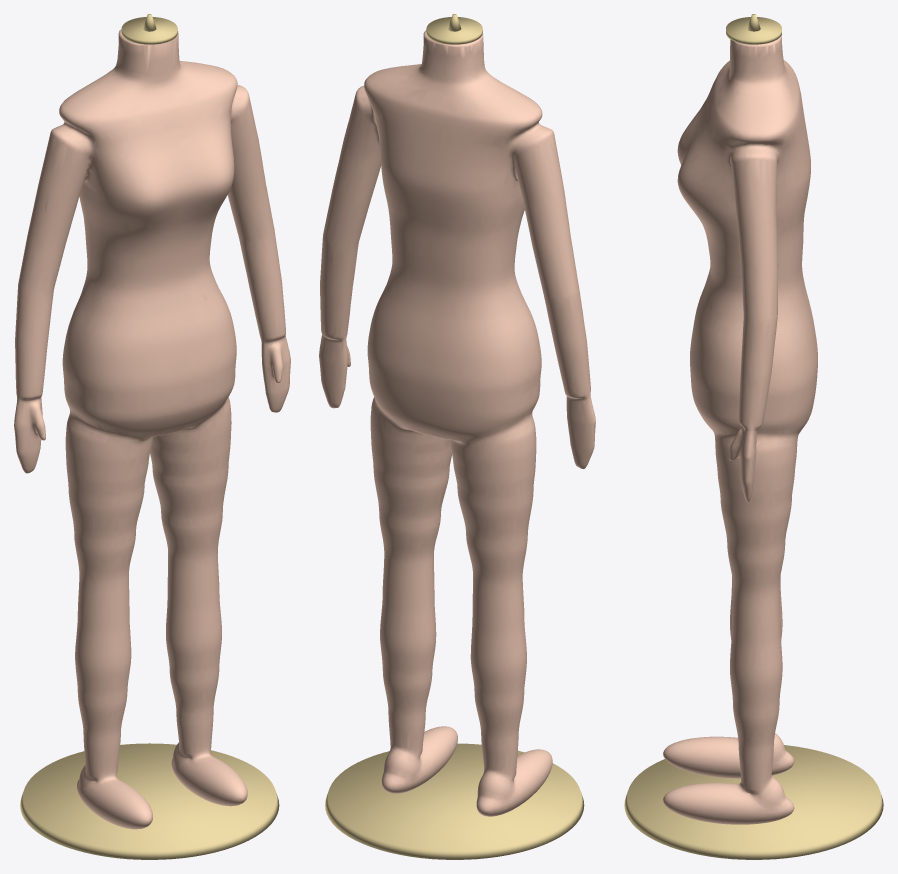
Rendered from mannequin-full.glb.
The picture shows the model from 3 angles, left to right: view 1: azimuth 30°, elevation 25°; view 2: azimuth 150°, elevation 25°; view 3: azimuth 270°, elevation 25°; orthographic projection.
Parts seen in each view (by area): view 1: AZHO_Mannequin_Body, AZHO_Mannequin_Stand; view 2: AZHO_Mannequin_Body, AZHO_Mannequin_Stand; view 3: AZHO_Mannequin_Body, AZHO_Mannequin_Stand.
Part boxes in pixels (box(x1,y1,x2,y2)): AZHO_Mannequin_Body: box(14, 29, 290, 829); AZHO_Mannequin_Stand: box(20, 14, 279, 859); AZHO_Mannequin_Body: box(319, 30, 595, 816); AZHO_Mannequin_Stand: box(325, 14, 584, 859); AZHO_Mannequin_Body: box(663, 35, 817, 824); AZHO_Mannequin_Stand: box(624, 14, 883, 859).
Bounding box in the file's own units: 0.566 × 1.55 × 0.4601.
